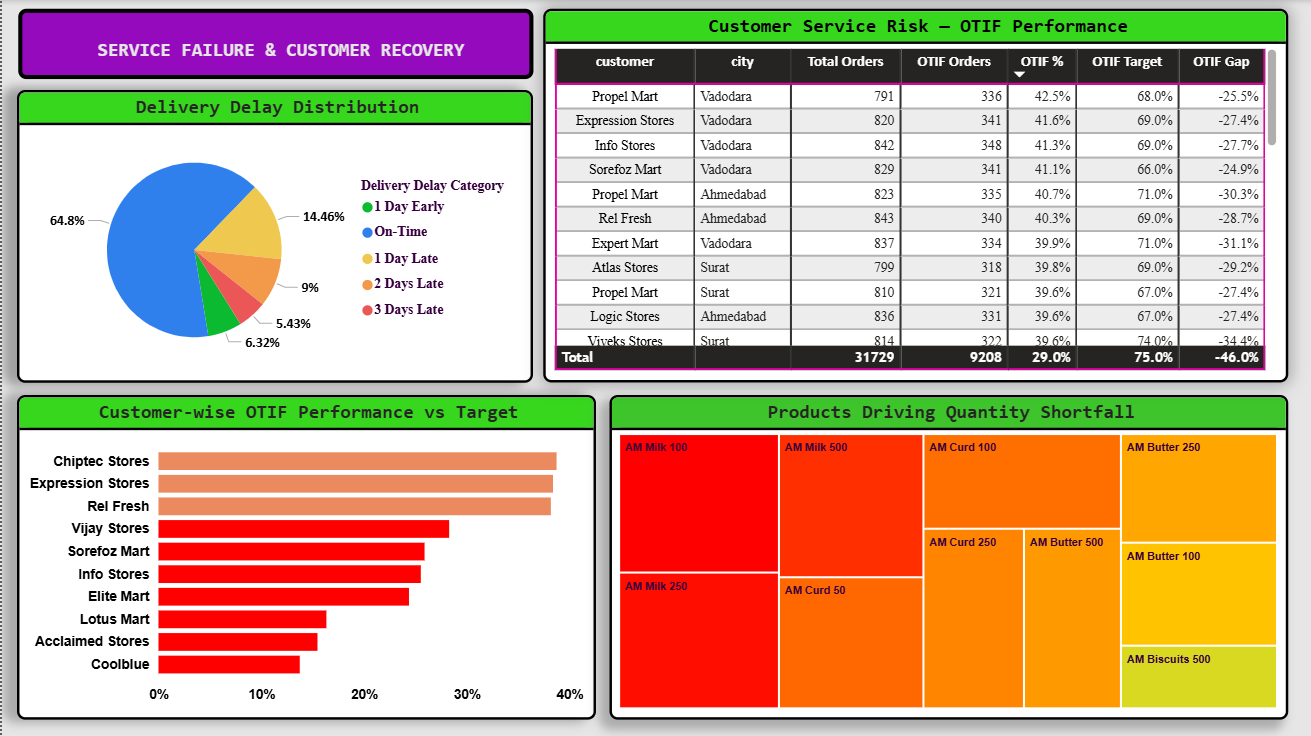

The dashboard page shown, as its layout file describes it:
{"tool":"powerbi","page":{"name":"Customer Recovery Analysis","canvas":[1280,720],"ordinal":1},"visuals":[{"type":"barChart","title":"Customer-wise OTIF Performance vs Target","fields":{"Category":["dim_customers.customer_name"],"Y":["_Measures.OTIF %"]},"box":[14.7,386.4,566.2,317.9],"z":0},{"type":"treemap","title":"Products Driving Quantity Shortfall","fields":{"Group":["dim_products.product_name"],"Values":["_Measures.Quantity Shortfall"]},"box":[594.3,386.4,664,317.9],"z":1000},{"type":"pieChart","title":"Delivery Delay Distribution","fields":{"Category":["fact_order_lines.Delivery Delay Category"],"Y":["CountNonNull(fact_order_lines.Delivery Delay Days)"]},"box":[14.7,88,505,286.1],"z":2000},{"type":"tableEx","title":"Customer Service Risk — OTIF Performance","fields":{"Values":["dim_customers.customer_name","dim_customers.city","_Measures.Total Orders","_Measures.OTIF Orders","_Measures.OTIF %","_Measures.OTIF Target","_Measures.OTIF Gap"]},"box":[529.5,8.6,728.8,365.6],"z":3000},{"type":"textbox","box":[15.9,8.6,503.8,68.5],"z":4000}]}

Visuals, with their boxes in screenshot pixels (x1, y1, x2, y2), scaled from the page's 1280x720 canvas onto the 1311x736 screenshot:
"Customer-wise OTIF Performance vs Target" barChart: [15, 395, 595, 720]
"Products Driving Quantity Shortfall" treemap: [609, 395, 1289, 720]
"Delivery Delay Distribution" pieChart: [15, 90, 532, 382]
"Customer Service Risk — OTIF Performance" tableEx: [542, 9, 1289, 383]
textbox: [16, 9, 532, 79]
